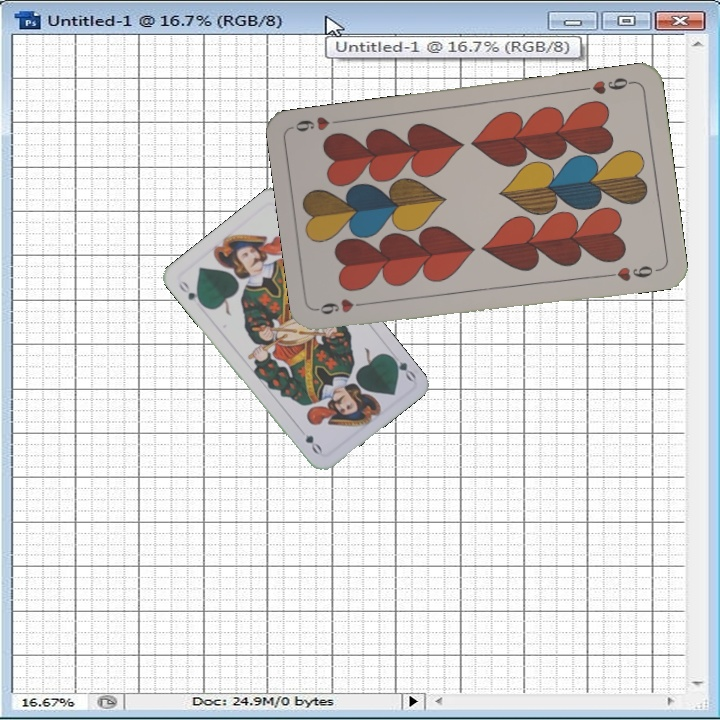GO: (385, 351, 419, 384), (174, 276, 206, 308)
H9: (578, 73, 637, 97), (314, 296, 374, 317)
